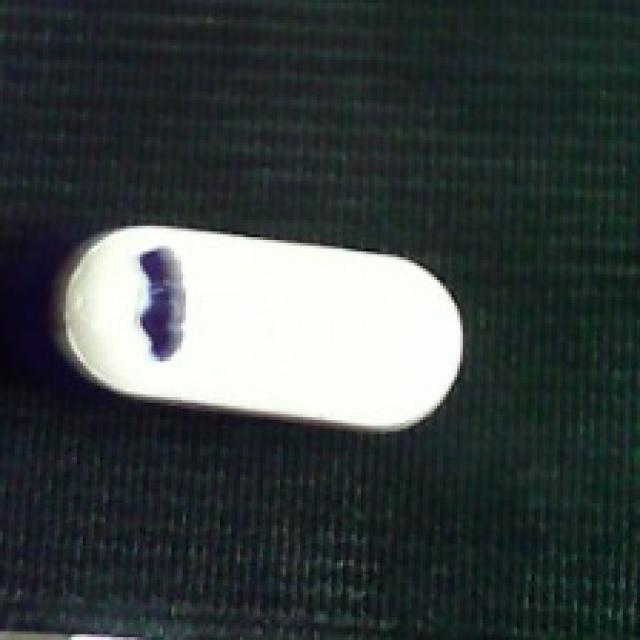defected: (49, 223, 468, 431)
